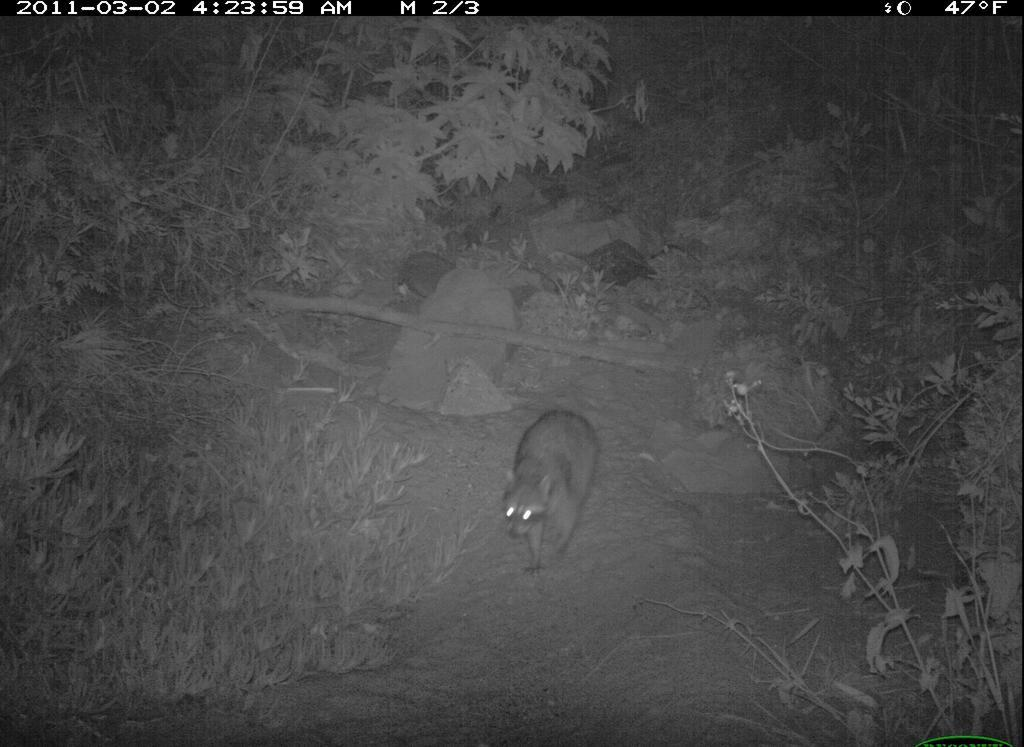raccoon: (493, 404, 611, 580)
